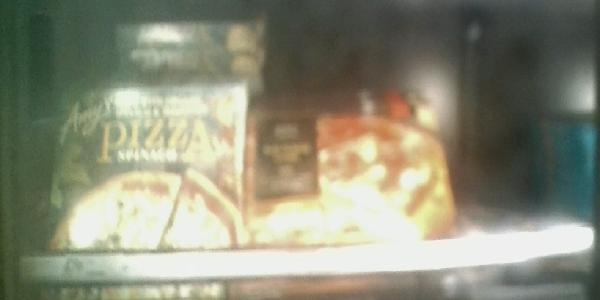pizza1: (42, 77, 247, 291), (240, 94, 460, 280)
pizza2: (114, 18, 268, 49), (116, 49, 268, 73)
